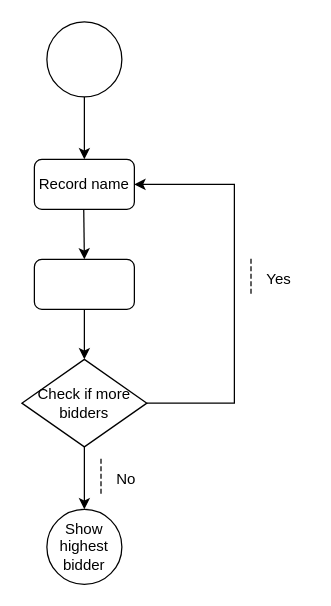
This 331x606 diagram has some shape labels left out. The centre of each missing label's shape, as x and y in pixels:
Record bid: pixel 83 283
Show gavel: pixel 84 59
